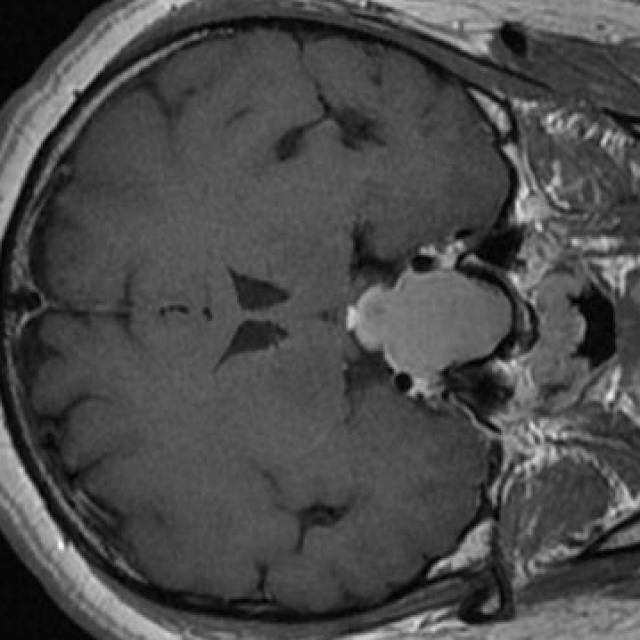pituitary: (346, 271, 513, 378)
